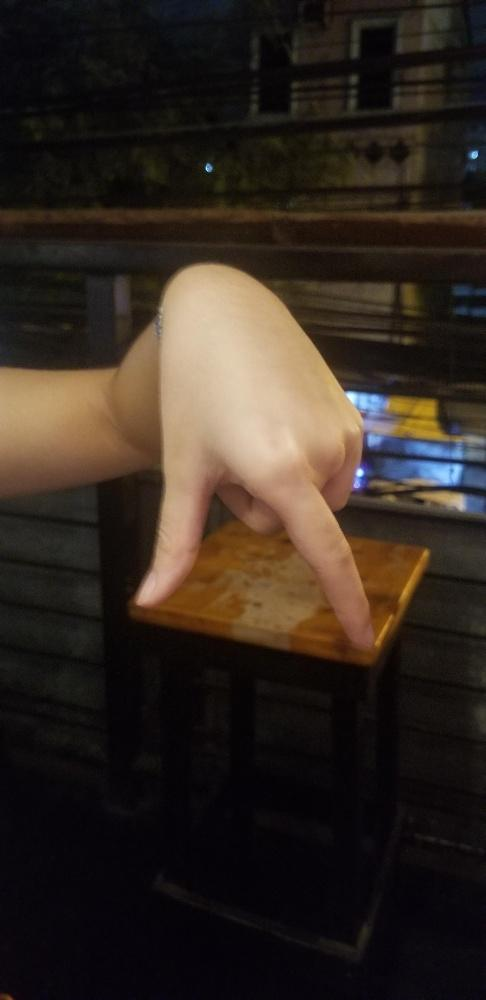q: (131, 263, 373, 653)
